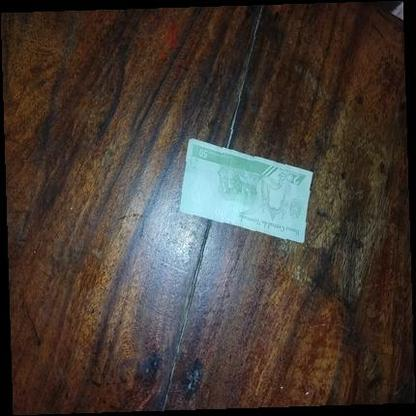fifty-back-vef: (179, 137, 313, 243)
